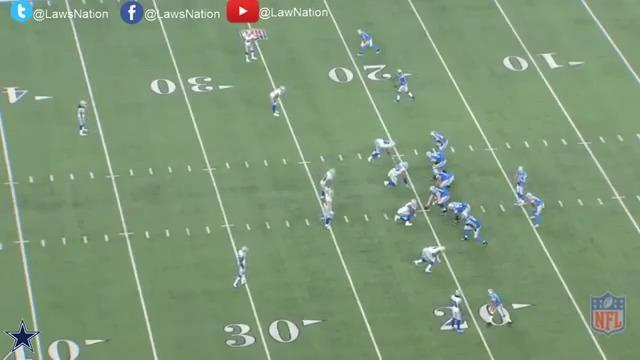player: (484, 286, 514, 329), (412, 244, 447, 276), (460, 214, 488, 249), (443, 291, 464, 337), (391, 69, 416, 107), (232, 244, 252, 291), (381, 160, 410, 192), (524, 190, 547, 230), (423, 184, 451, 214), (354, 28, 382, 58), (318, 185, 336, 231), (365, 138, 395, 165), (394, 199, 421, 229), (241, 25, 260, 66), (268, 83, 288, 120), (512, 165, 530, 206), (447, 200, 473, 227), (320, 167, 338, 206), (429, 129, 451, 158), (75, 98, 90, 140), (432, 166, 456, 192), (425, 150, 449, 175)
